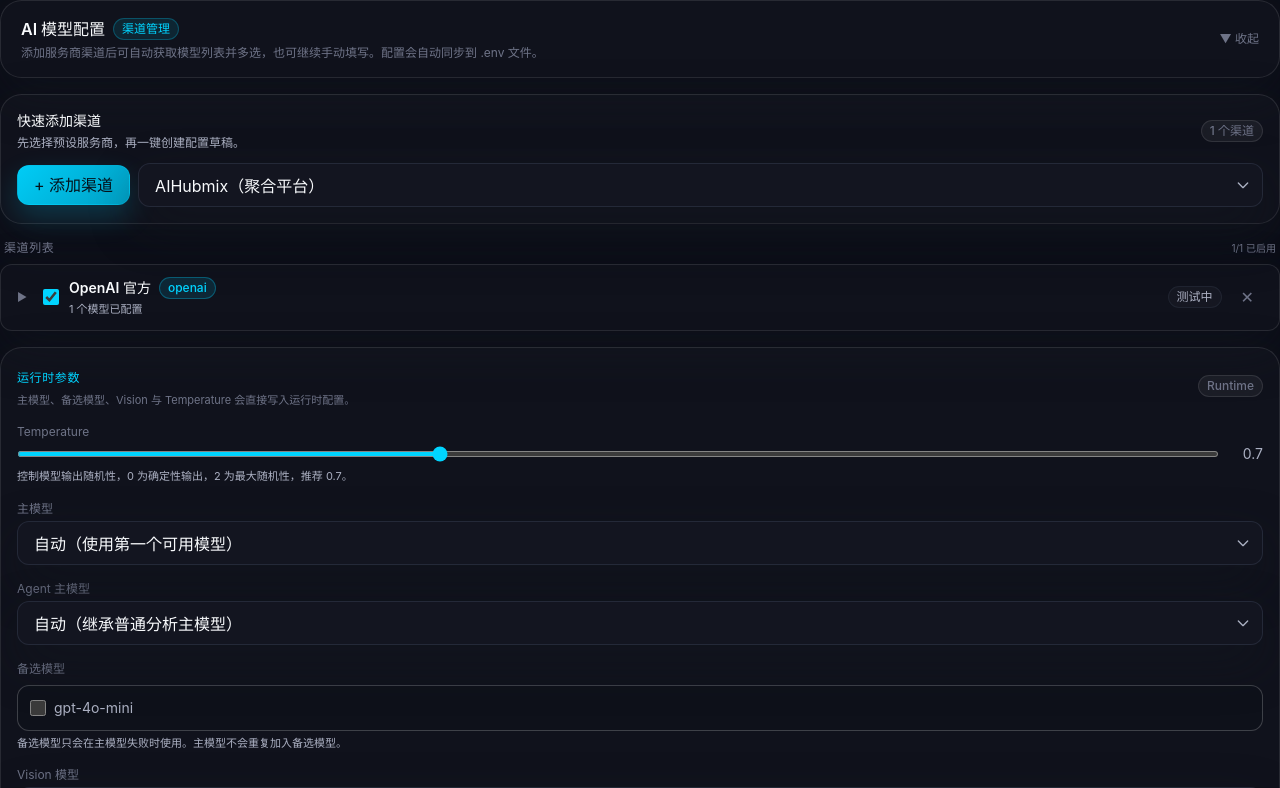
Test case: LLMChannelEditor › shows structured troubleshooting hint when channel auth fails
Click the button "▶ OpenAI 官方 openai 1 个模型已配置 测试中 ✕".
click(110, 288)  # box [1,265,1279,330]
(page scrolled)
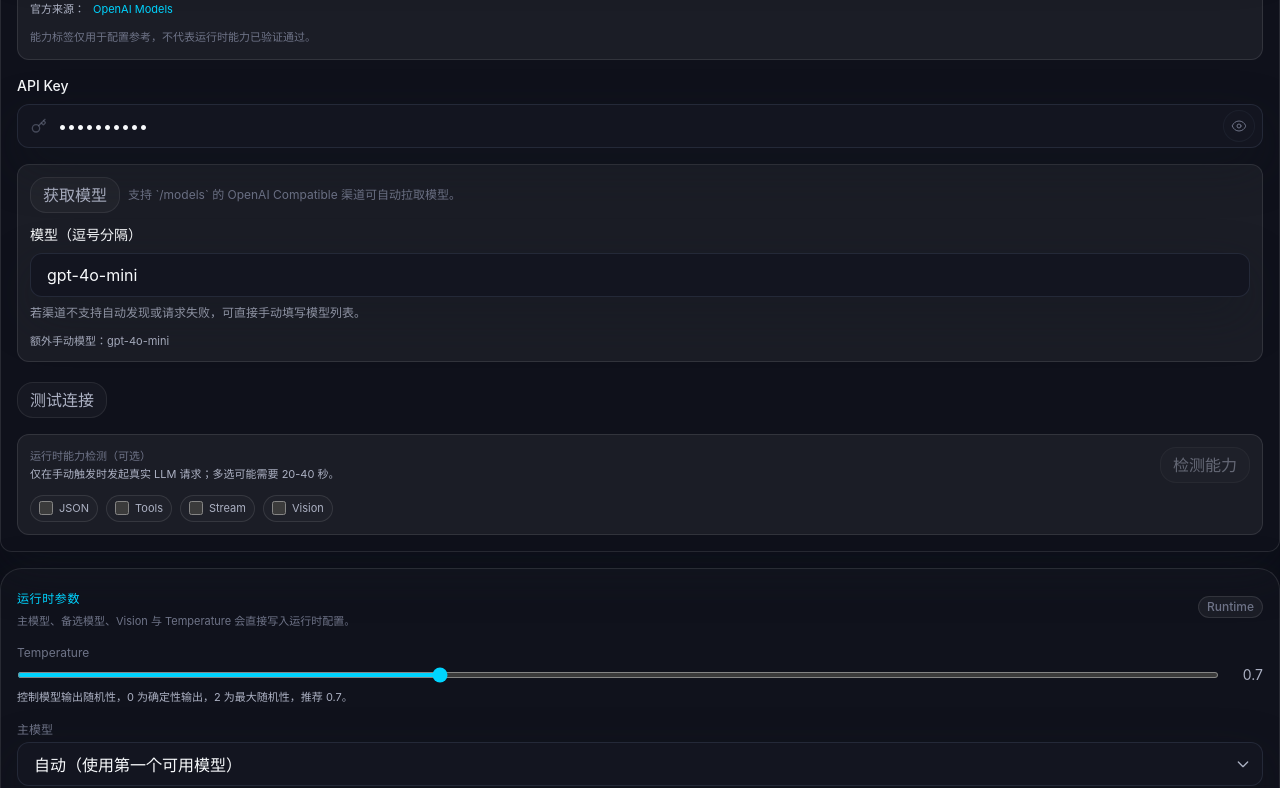
Click the button "测试连接".
click(62, 400)  # box [17,382,107,418]
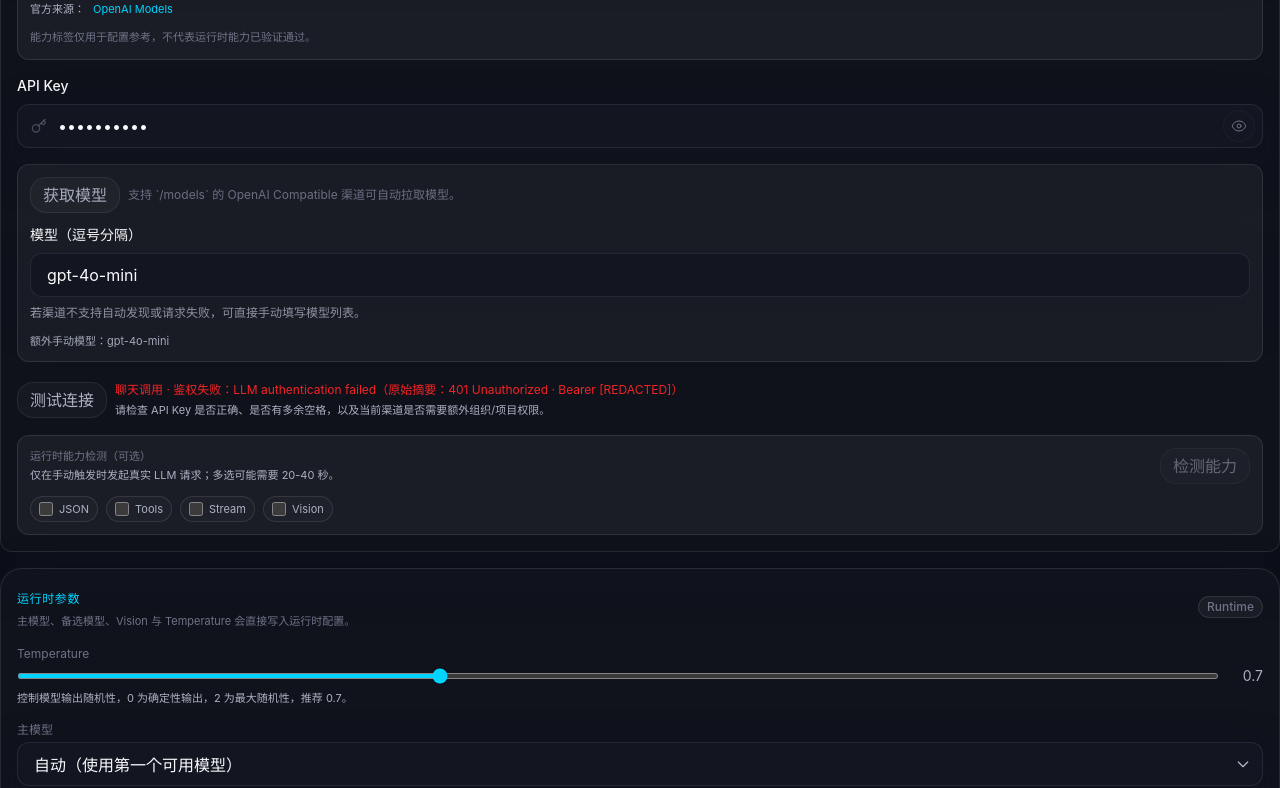
expect the text "聊天调用 · 鉴权失败：LLM authentication failed" is shown: met, box [115,382,683,397]
expect the text "请检查 API Key 是否正确、是否有多余空格，以及当前渠道是否需要额外组织/项目权限。" is shown: met, box [115,403,550,417]
